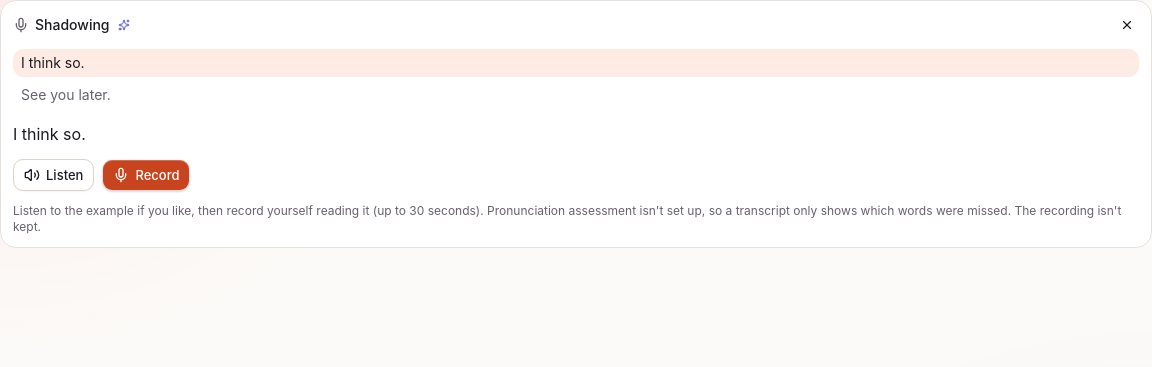
Scenario: ShadowingPanel › marks a rough result as such, with what was heard
Click the button with test id "shadowing-record" at [146, 175], box 102,159 -> 190,191
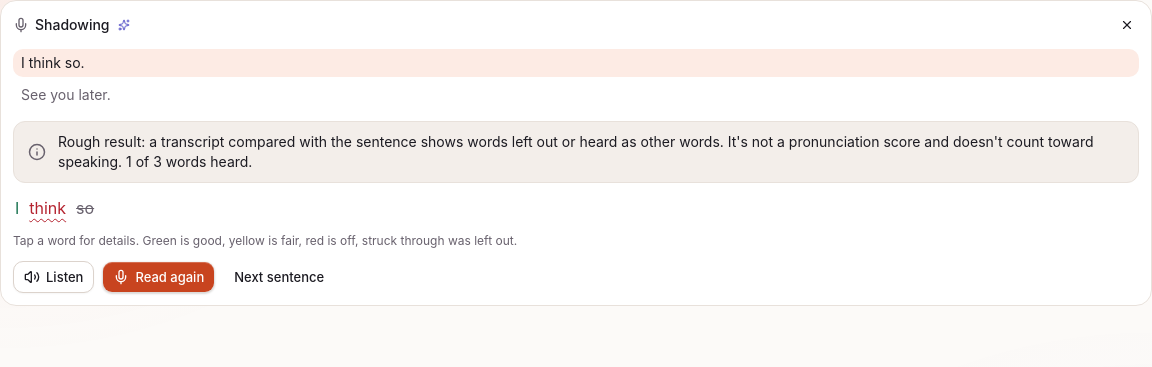
Now the message with test id "shadowing-rough" shows "Rough result", box 58,133 -> 1094,170
Now the message with test id "shadowing-rough" shows "1 of 3 words heard.", box 126,153 -> 252,170
Click the button "think" at [48, 208], box 27,195 -> 68,221
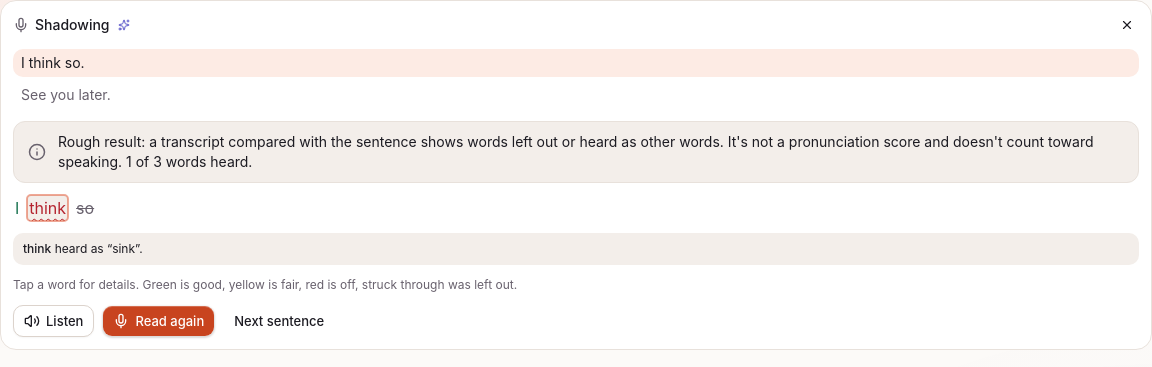
Now the element with test id "shadowing-word-detail" shows "heard as “sink”", box 55,241 -> 143,256
